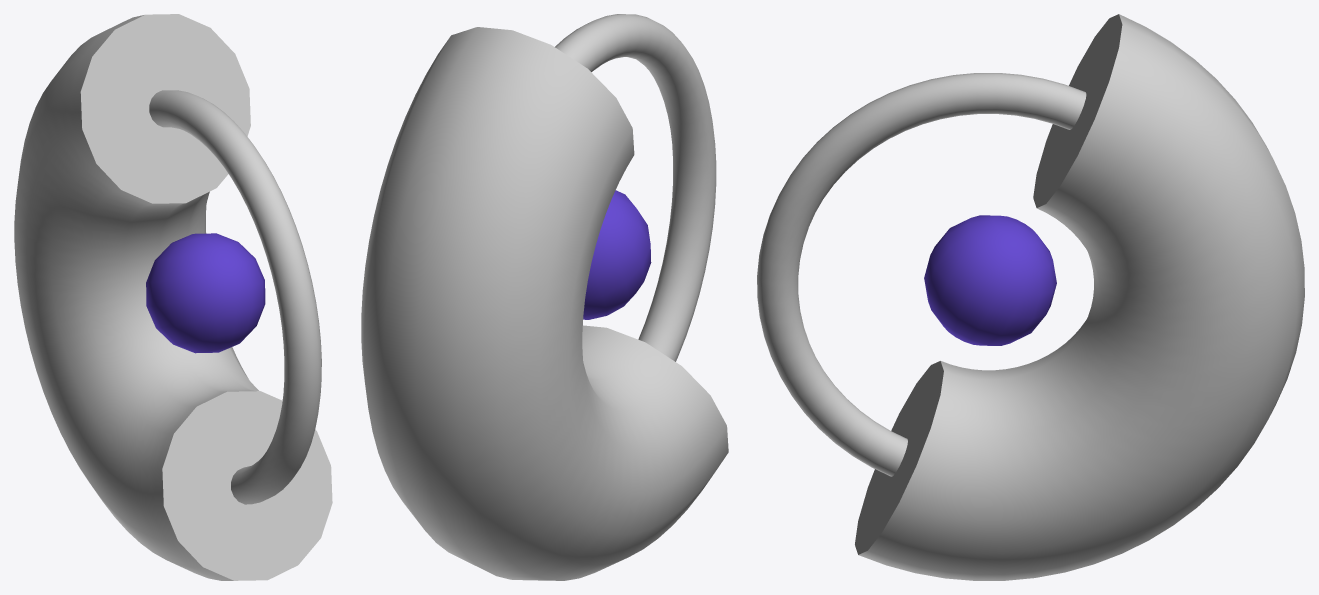
File: Head2.fbx
3 renders of one model, left to right at view 1: azimuth 30°, elevation 25°; view 2: azimuth 150°, elevation 25°; view 3: azimuth 270°, elevation 25°, orthographic. The views are drawn at different scales.
Visible parts, largest first — view 1: Head2Torus2, Head2Torus, Head2Sphere; view 2: Head2Torus2, Head2Torus, Head2Sphere; view 3: Head2Torus2, Head2Torus, Head2Sphere.
Part boxes in pixels (x1,y1,x2,y2): Head2Torus2: [14, 14, 332, 580]; Head2Torus: [149, 90, 321, 504]; Head2Sphere: [146, 233, 265, 353]; Head2Torus2: [361, 27, 728, 580]; Head2Torus: [555, 14, 716, 361]; Head2Sphere: [583, 190, 651, 319]; Head2Torus2: [855, 14, 1304, 580]; Head2Torus: [757, 73, 1086, 476]; Head2Sphere: [924, 215, 1056, 345].
Bounding box in the file's own units: 21.43 × 61.25 × 55.62.
